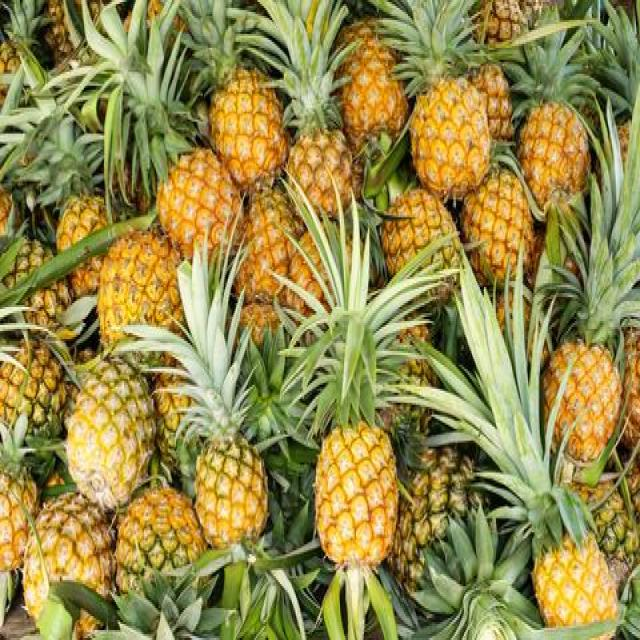pineapple: (313, 421, 401, 569), (186, 402, 268, 548), (199, 42, 287, 175), (150, 140, 242, 262), (113, 483, 207, 600), (516, 73, 593, 206), (542, 338, 622, 464), (532, 530, 620, 636)
